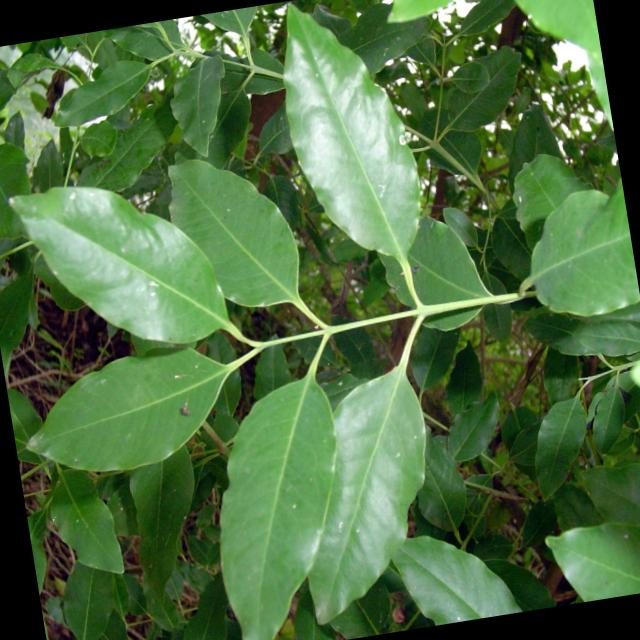Sandalwood: (29, 0, 640, 640)
